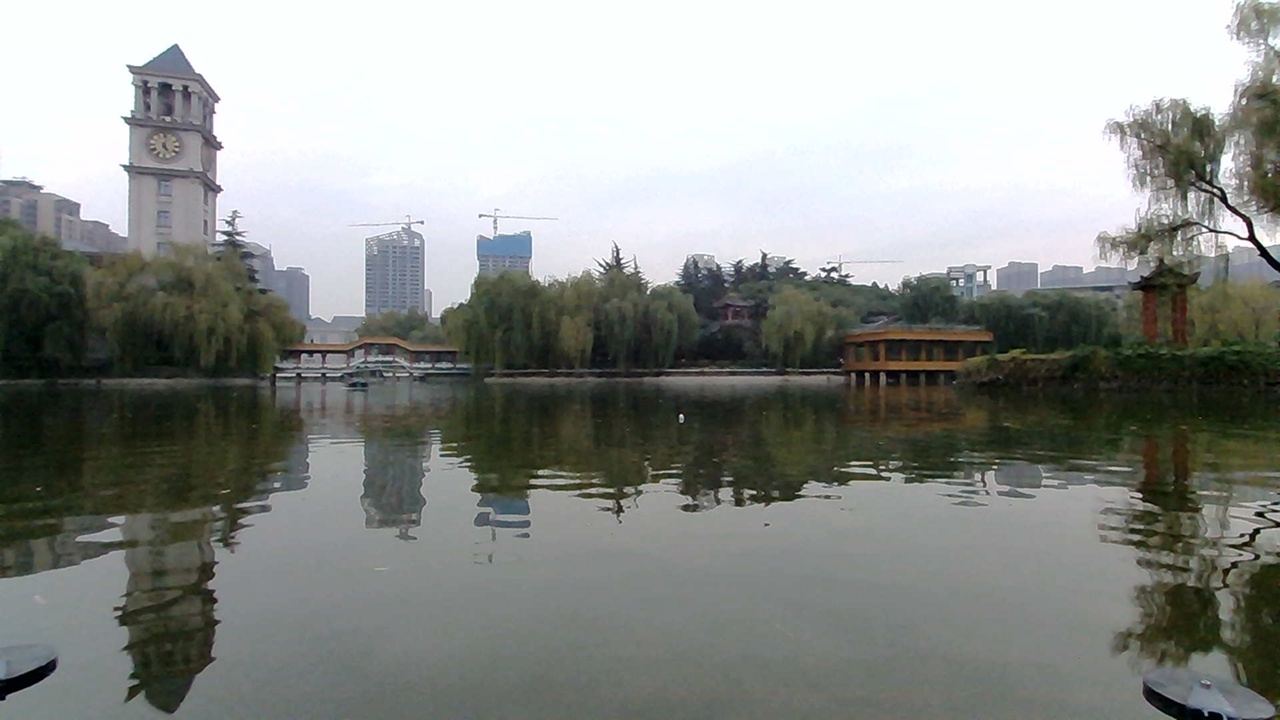bottle: (666, 403, 700, 428)
